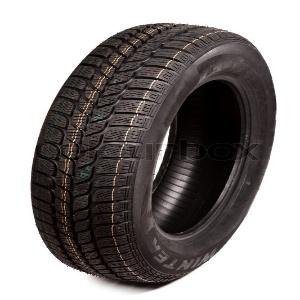tire: (29, 20, 277, 288)
